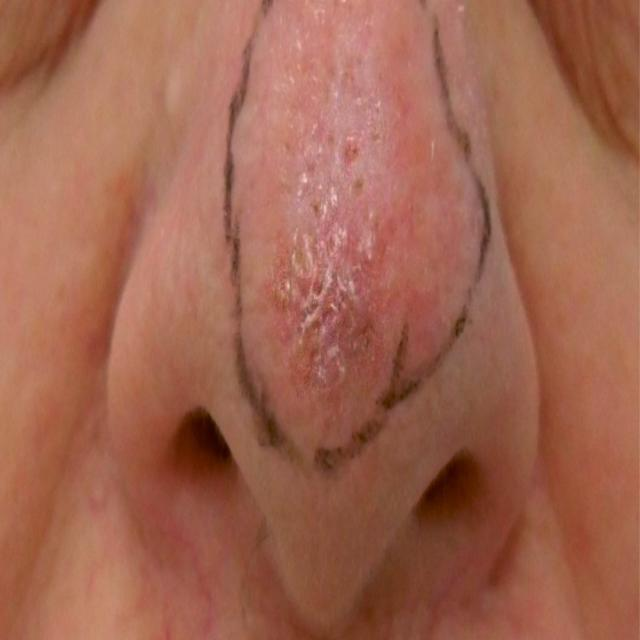Cancer: (249, 43, 436, 394)
